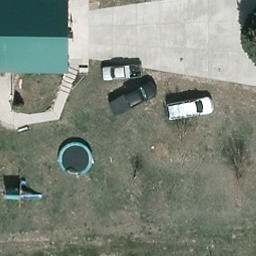car: (166, 97, 215, 120)
pickup: (107, 82, 159, 114), (101, 63, 143, 80)
